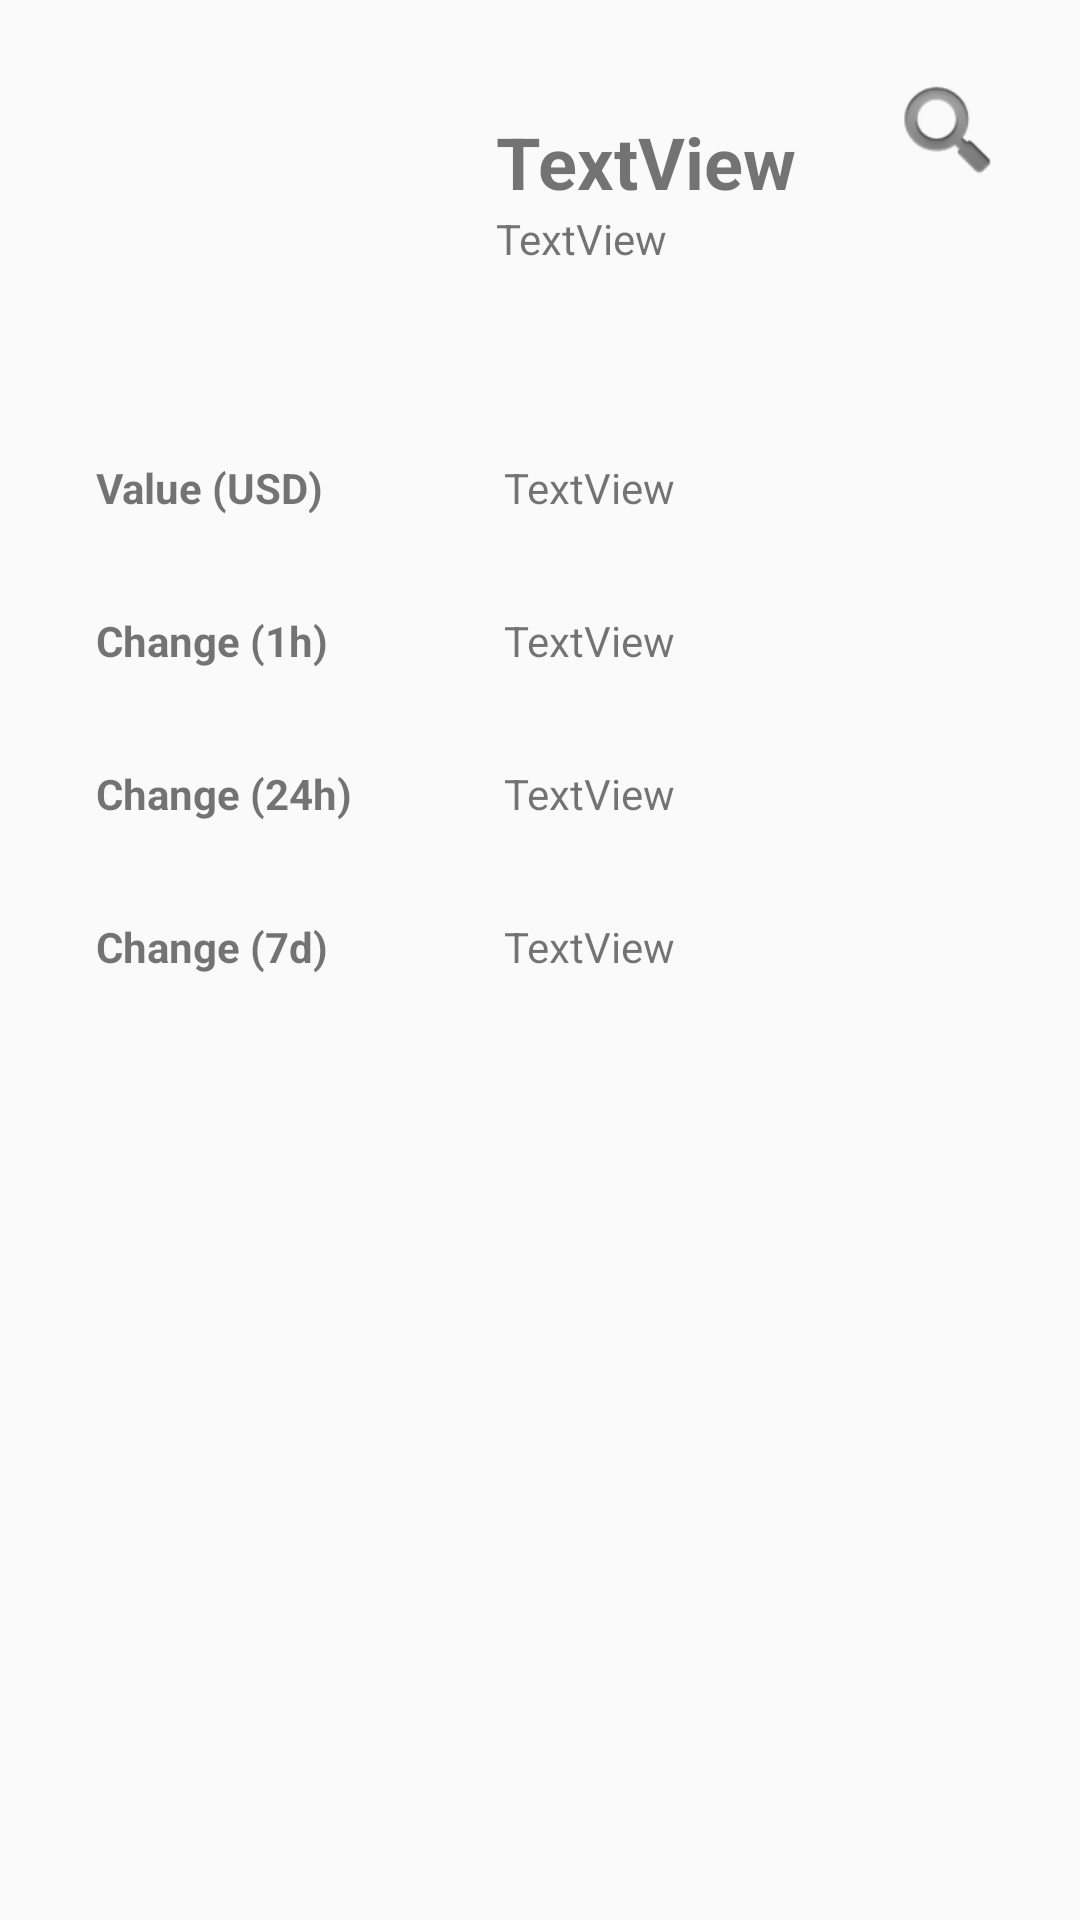

Icon bounding boxes for this 1080px×1920px phone screenshot, format (x1, y1, x2, y2):
search category: (904, 87, 991, 173)
